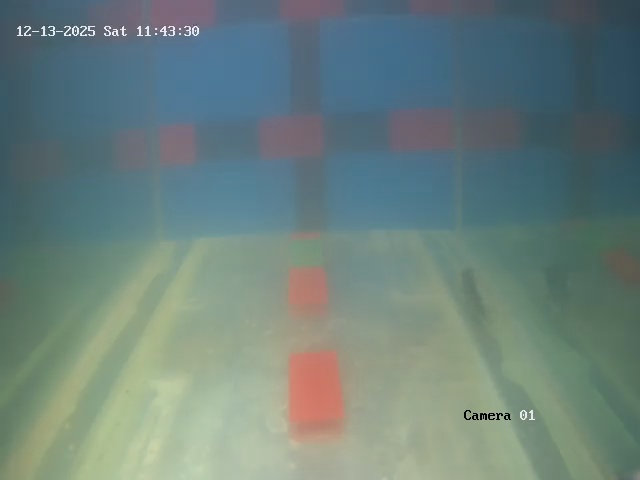fish: (458, 266, 496, 319)
